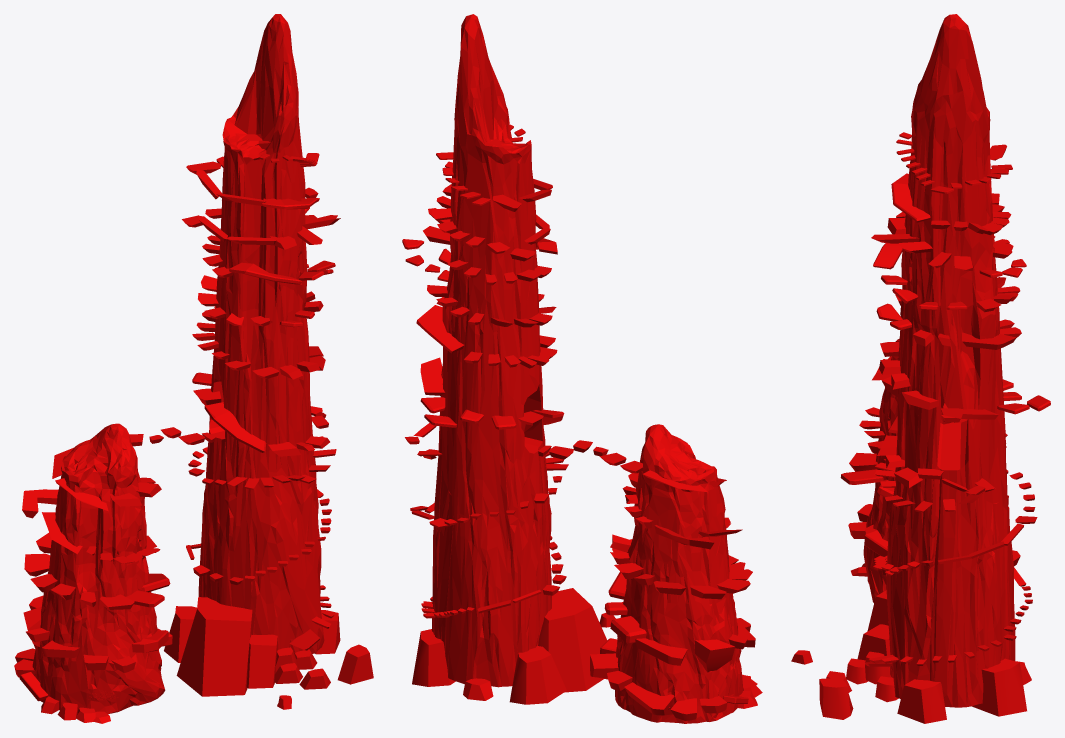
The model's file is Extras_OnlyUpCourse_02.glb.
The picture shows the model from 3 angles, left to right: view 1: azimuth 30°, elevation 25°; view 2: azimuth 150°, elevation 25°; view 3: azimuth 270°, elevation 25°; orthographic projection. The views are drawn at different scales.
Parts seen in each view (by area): view 1: polySurface1, polySurface2, pasted__Object_IceRock119, pasted__Object_IceRock120, pasted__Object_Box21, pasted__Object_IceRock126, pasted__Object_IceRock125, pasted__Object_IceRock48, pasted__Object_IceRock121, pasted__Object_Box32; view 2: polySurface1, polySurface2, pasted__Object_IceRock119, pasted__Object_IceRock125, pasted__Object_IceRock122, pasted__Object_IceRock28, pasted__Object_IceRock82, pasted__Object_IceRock24, pasted__Object_IceRock29, pasted__Object_IceRock70, pasted__Object_Box4, pasted__Object_IceRock6 (+1 smaller); view 3: polySurface1, polySurface2, pasted__Object_IceRock122, pasted__Object_IceRock121, pasted__Object_IceRock126, pasted__Object_Box36, pasted__Object_IceRock120, pasted__Object_IceRock82, pasted__Object_Box32, pasted__Object_IceRock119, pasted__Object_IceRock70, pasted__Object_Box16 (+6 smaller).
Boxes of the visible parts, x1,y1,x2,y2 form: polySurface1: [198, 14, 324, 653]; polySurface2: [32, 423, 165, 714]; pasted__Object_IceRock119: [176, 597, 252, 696]; pasted__Object_IceRock120: [246, 634, 278, 688]; pasted__Object_Box21: [204, 402, 266, 452]; pasted__Object_IceRock126: [337, 644, 373, 684]; pasted__Object_IceRock125: [164, 606, 196, 662]; pasted__Object_IceRock48: [22, 489, 58, 518]; pasted__Object_IceRock121: [315, 610, 340, 654]; pasted__Object_Box32: [228, 262, 302, 284]; polySurface1: [432, 14, 551, 687]; polySurface2: [615, 424, 743, 723]; pasted__Object_IceRock119: [538, 588, 607, 692]; pasted__Object_IceRock125: [509, 646, 566, 704]; pasted__Object_IceRock122: [412, 629, 455, 686]; pasted__Object_IceRock28: [694, 639, 735, 672]; pasted__Object_IceRock82: [416, 305, 464, 353]; pasted__Object_IceRock24: [624, 682, 674, 715]; pasted__Object_IceRock29: [635, 638, 687, 665]; pasted__Object_IceRock70: [420, 357, 445, 395]; pasted__Object_Box4: [610, 616, 646, 643]; pasted__Object_IceRock6: [590, 653, 618, 679]; polySurface1: [886, 14, 1015, 707]; polySurface2: [863, 338, 967, 602]; pasted__Object_IceRock122: [972, 658, 1026, 716]; pasted__Object_IceRock121: [897, 679, 946, 723]; pasted__Object_IceRock126: [819, 677, 853, 719]; pasted__Object_Box36: [891, 173, 930, 222]; pasted__Object_IceRock120: [857, 624, 891, 677]; pasted__Object_IceRock82: [962, 332, 1016, 349]; pasted__Object_Box32: [873, 243, 902, 269]; pasted__Object_IceRock119: [867, 590, 888, 631]; pasted__Object_IceRock70: [941, 408, 998, 419]; pasted__Object_Box16: [864, 524, 887, 556].
Bounding box in the file's own units: 32.79 × 63.29 × 21.65.
